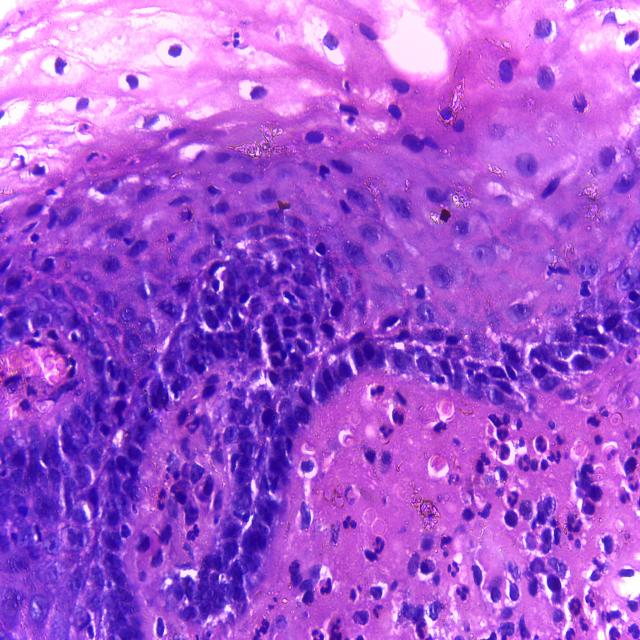Nuclear Hyperchromatism: (0, 233, 640, 640), (39, 47, 76, 79), (134, 114, 176, 136), (161, 35, 187, 66), (244, 83, 269, 107), (124, 71, 146, 95), (501, 508, 521, 533), (66, 95, 93, 112)
